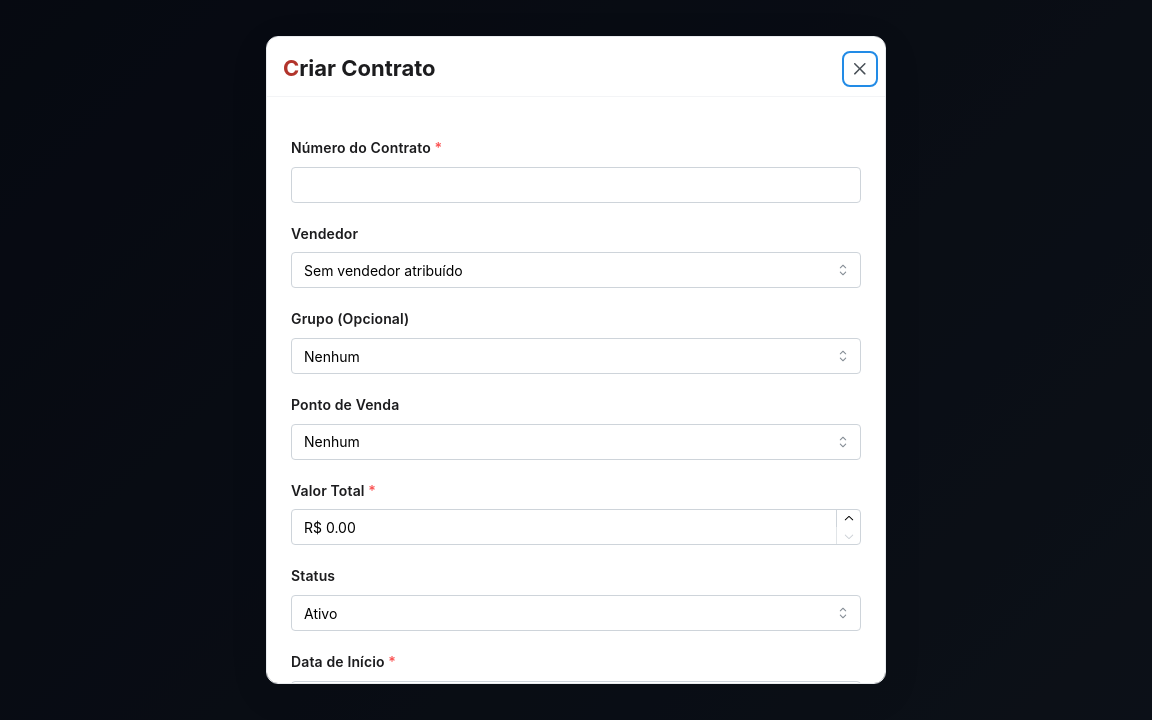
Test case: ContractForm › User Interactions and Errors › should display error message on API failure
This screenshot has width=1152, height=720.
Expected: the heading "Criar Contrato" is shown, [283, 53, 436, 84]
In the field named "Número do Contrato": {"x": 576, "y": 185} [291, 167, 861, 203], type "C001"
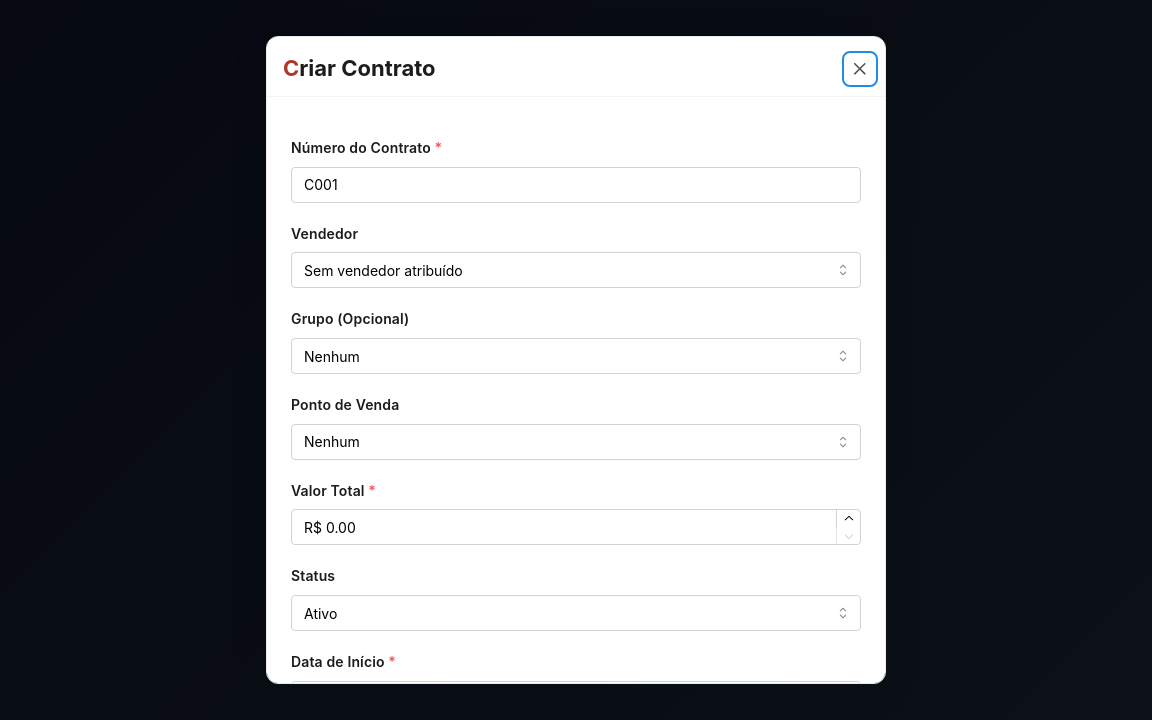
Replace the text in the field named "Valor Total" with "1000": {"x": 576, "y": 527} [291, 509, 861, 545]
(page scrolled)
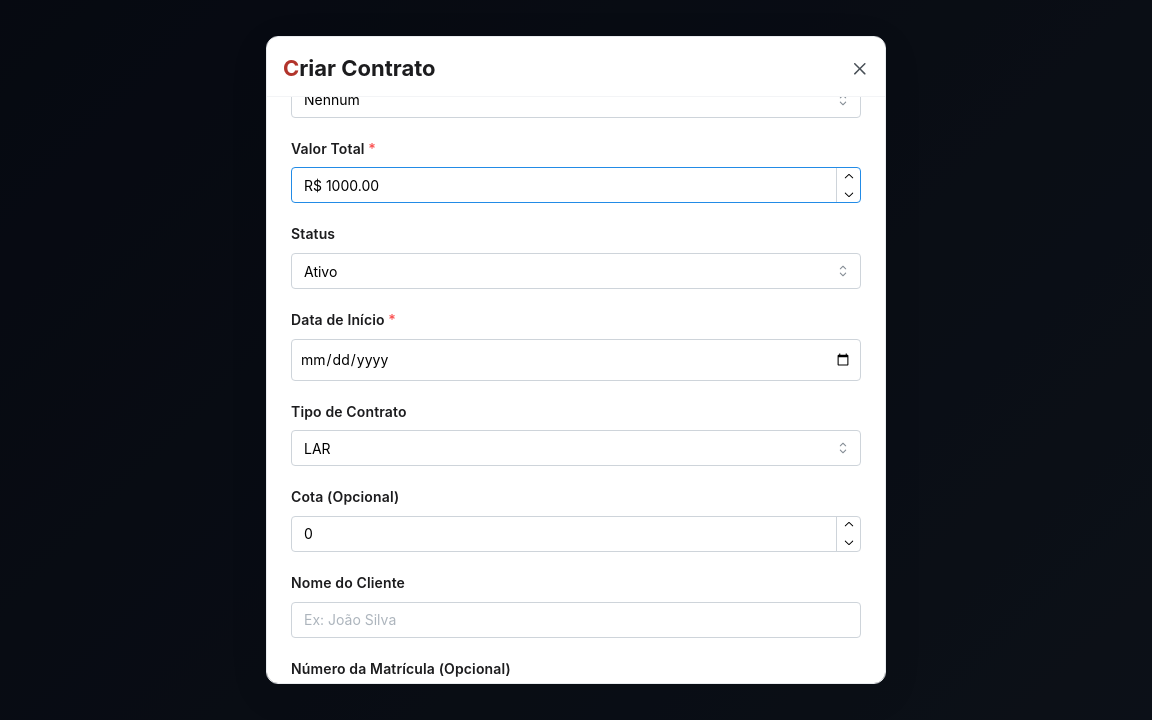
In the date field named "Data de Início": {"x": 576, "y": 360} [291, 339, 861, 380], type "2024-01-01"
(page scrolled)
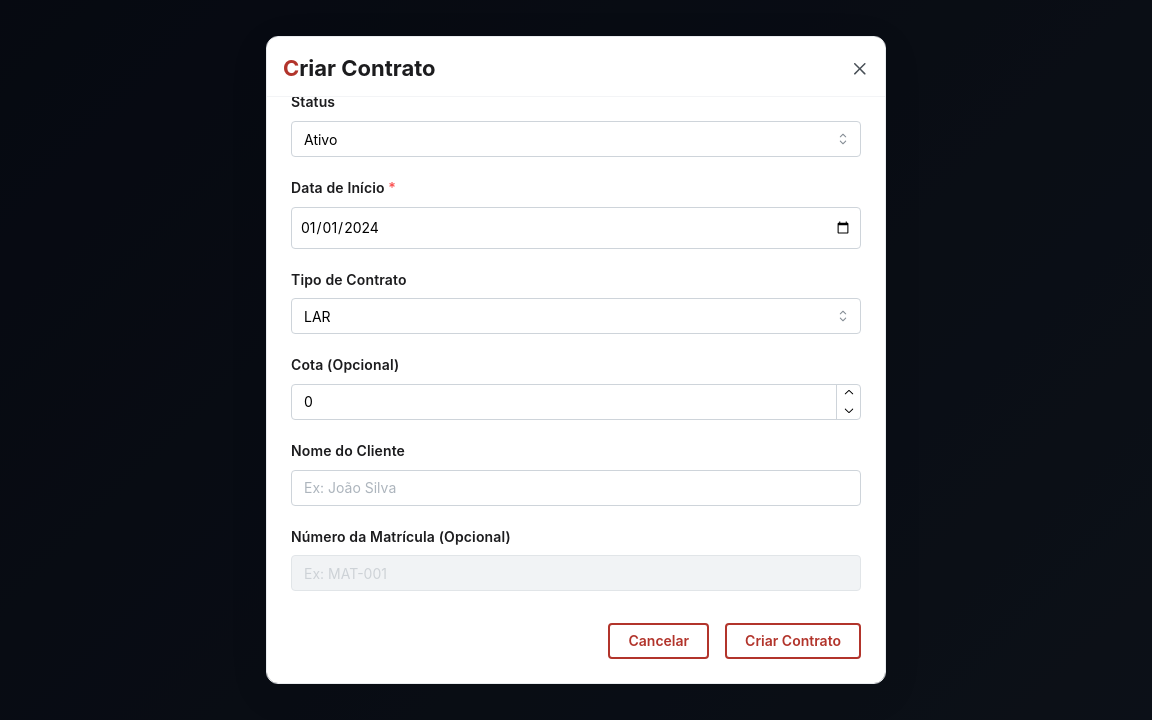
Click the button "Criar Contrato": {"x": 793, "y": 641} [725, 623, 861, 659]
(page scrolled)
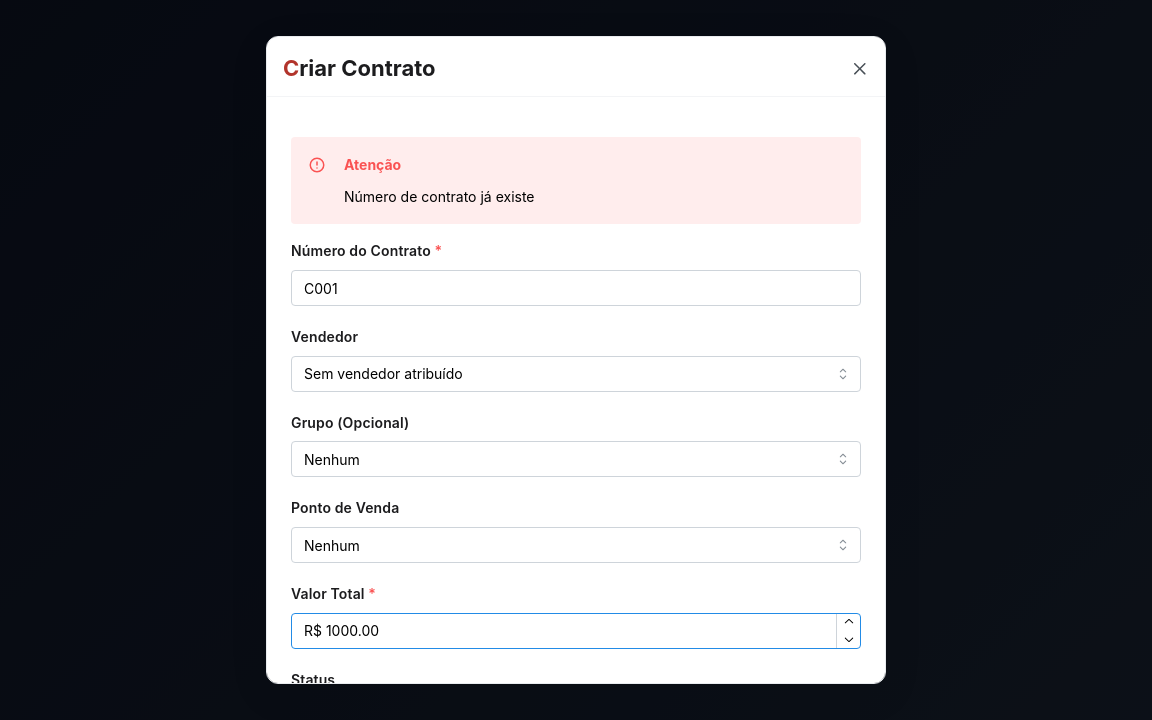
Expected: the text "Número de contrato já existe" is shown, [344, 188, 534, 205]
